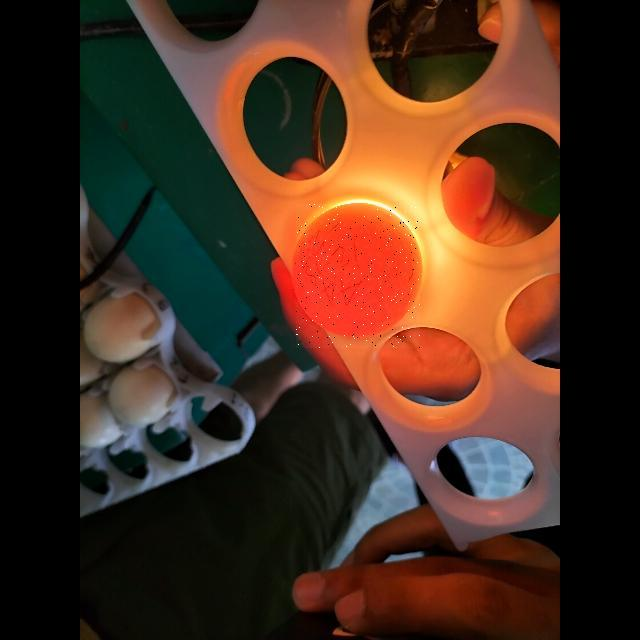Infertile: (296, 204, 420, 348)
